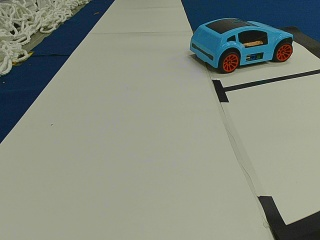car: (190, 19, 292, 72)
